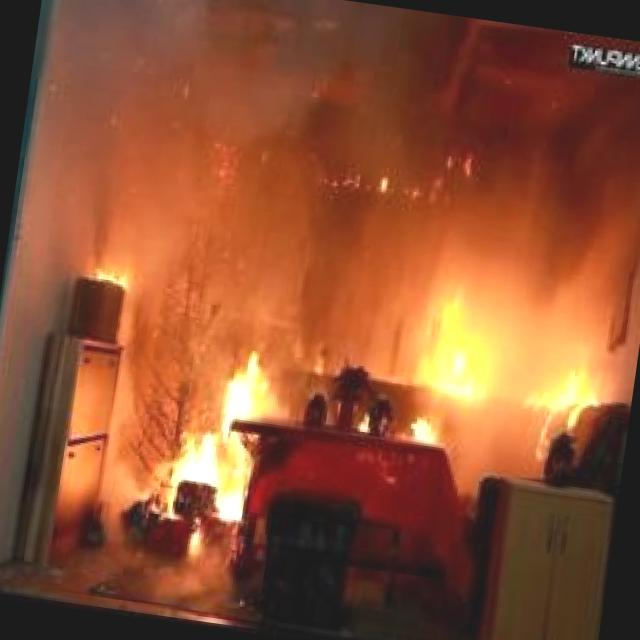fire: (144, 220, 626, 570)
